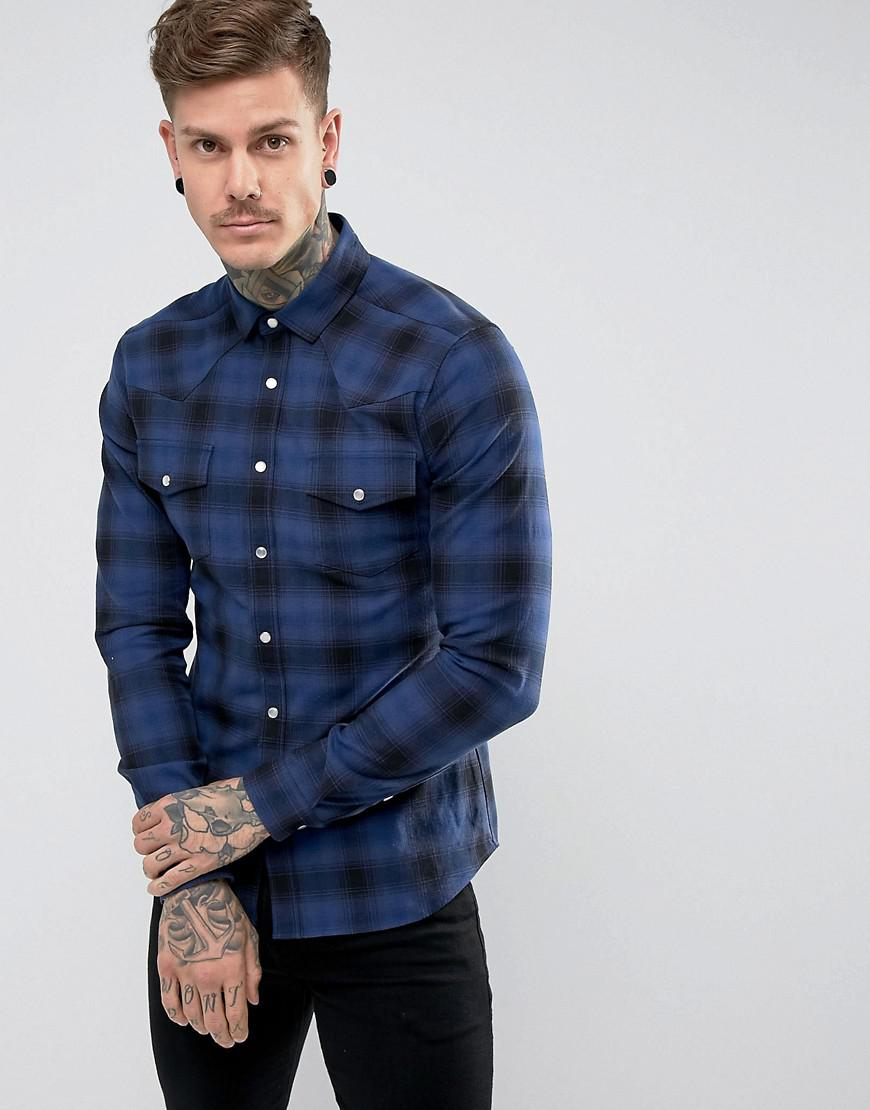teeshirt: (88, 212, 559, 946)
